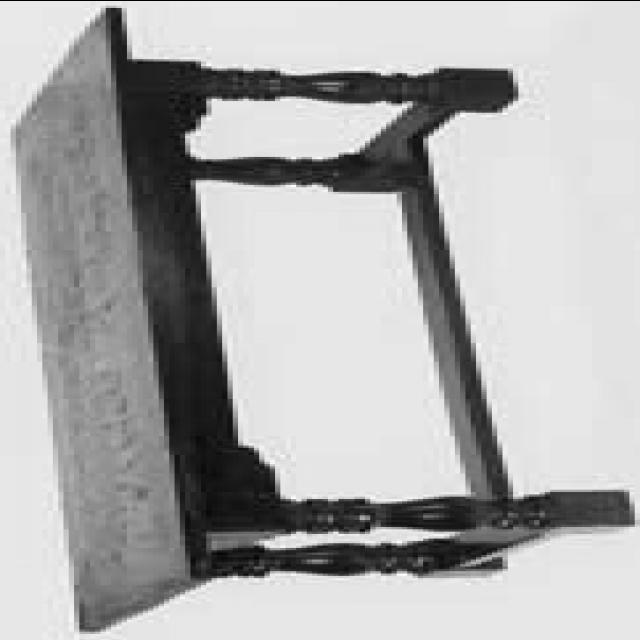table: (7, 6, 631, 632)
